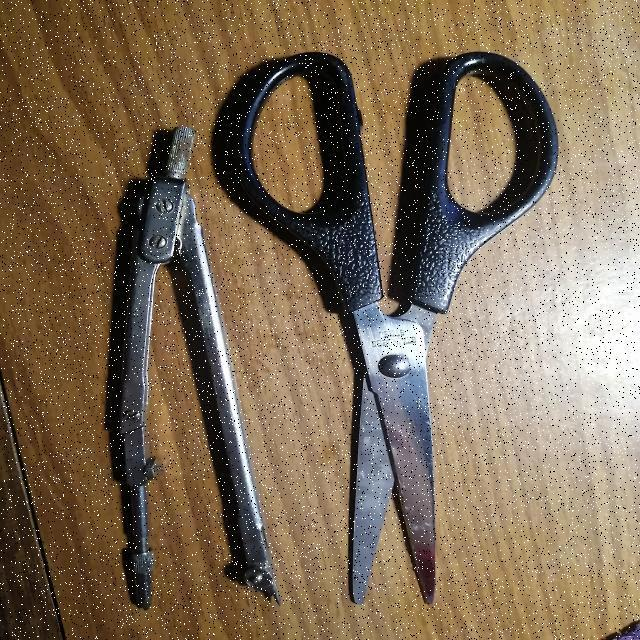scissors: (196, 33, 596, 620)
